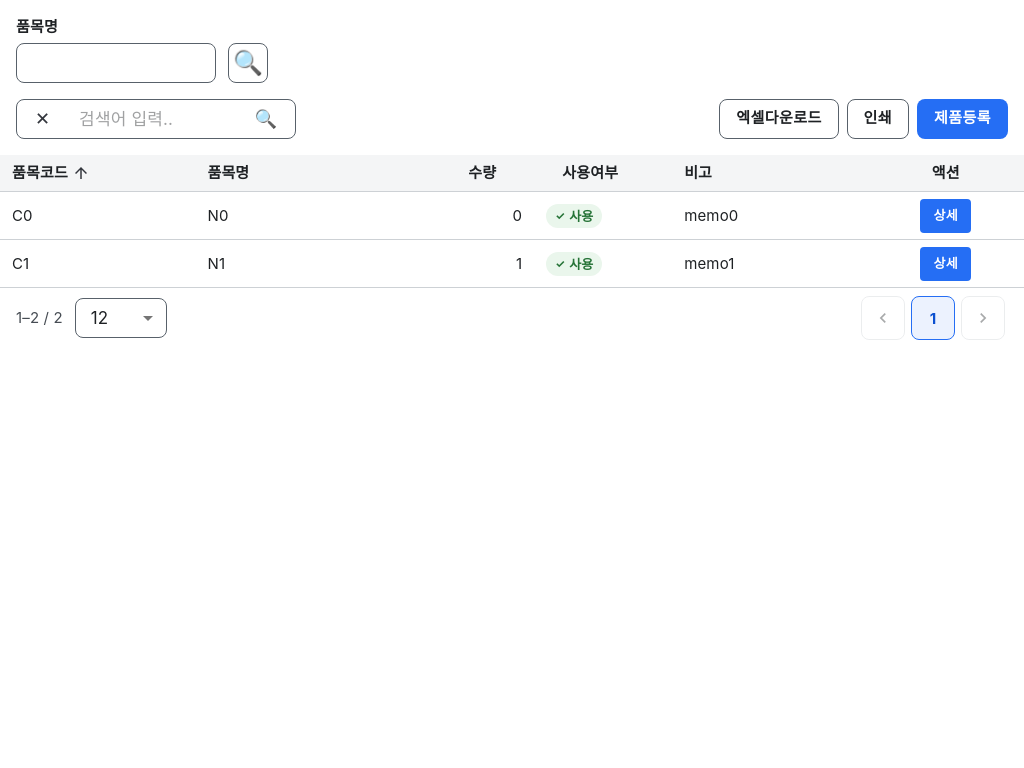
Test: MjGrid mobile layout › desktop (mobile disabled) keeps the table, no history entries
Expected: the table is shown, [0,154,1023,288]
Step 1. Click the column heading "C0" → (98, 216), box [0,192,196,240]
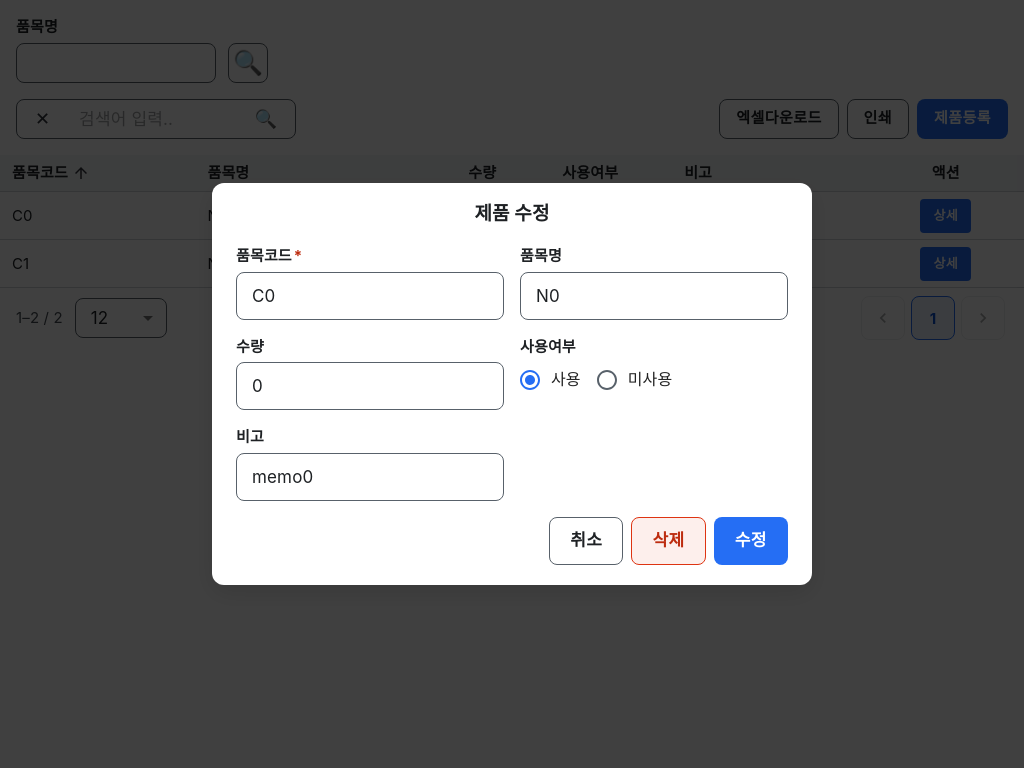
Expected: the form with test id "mj-form" is shown, [236,245,788,565]
